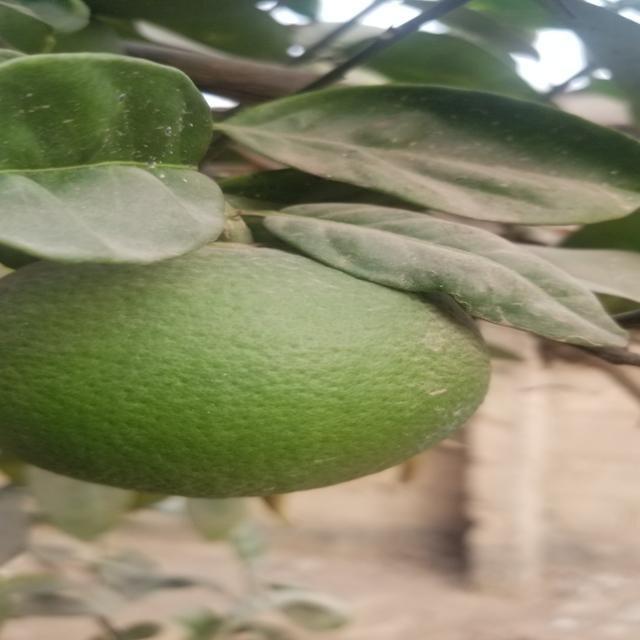agrume: (10, 245, 493, 492)
